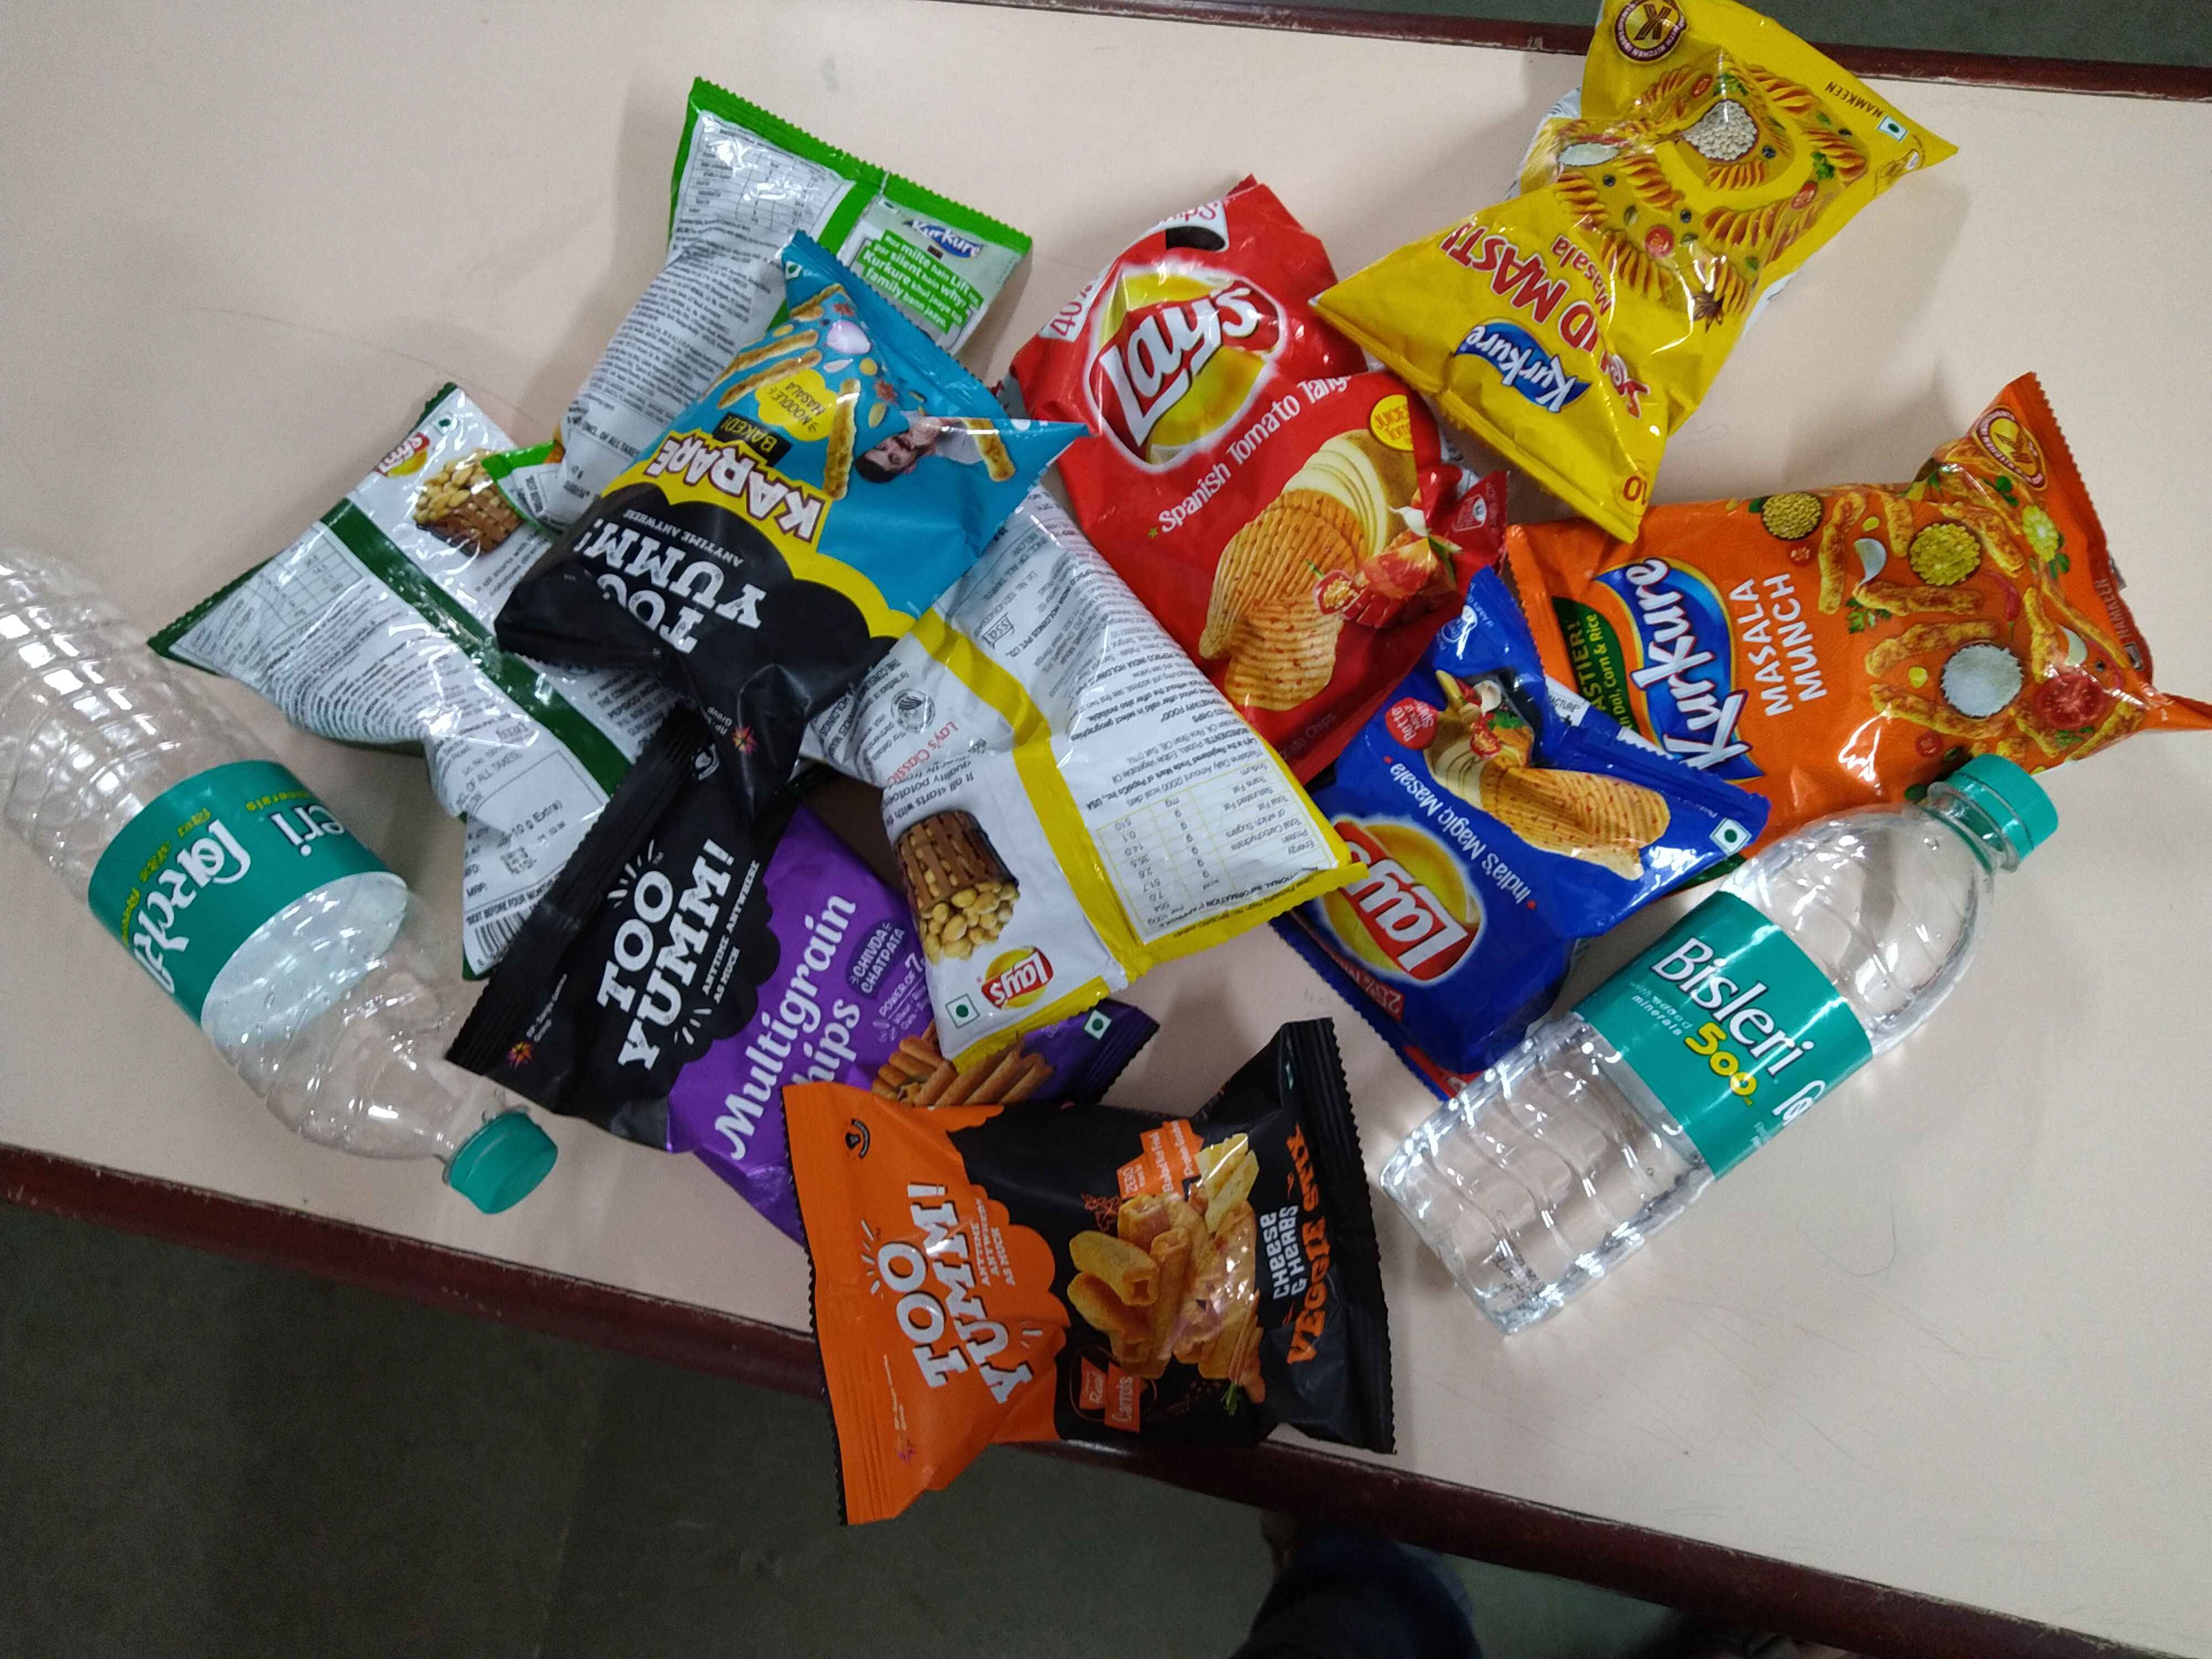Bisleri: (1625, 892, 1860, 1127), (98, 777, 380, 964)
Lays: (1085, 258, 1298, 469), (1315, 798, 1510, 1002), (977, 943, 1066, 1011), (374, 416, 442, 498)
kurkure: (1590, 542, 1785, 788), (1447, 305, 1606, 430), (897, 207, 996, 260)
tooyumm: (575, 821, 751, 1066), (881, 1164, 1015, 1434), (564, 509, 796, 662)
